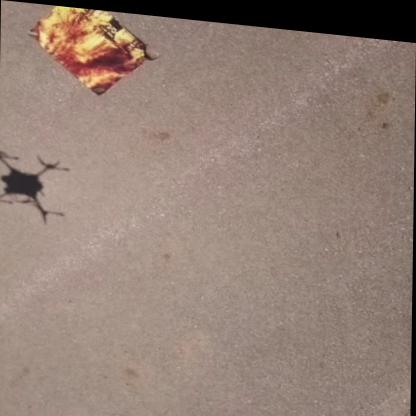fire-poster: (24, 2, 160, 99)
